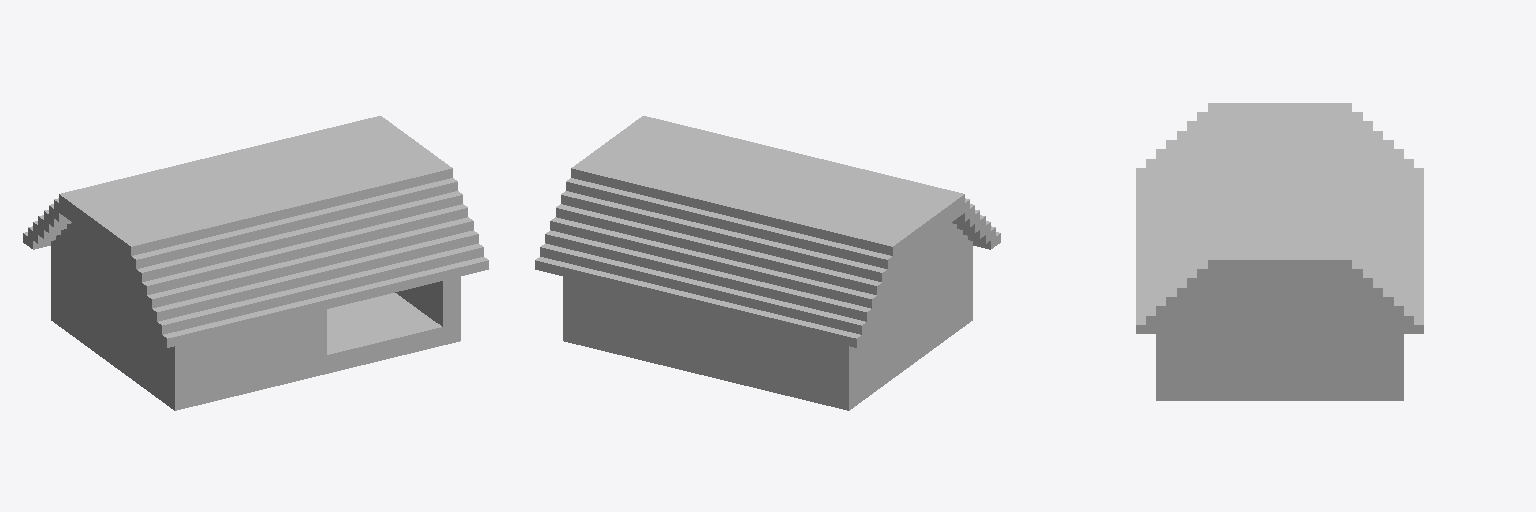
The model's file is House.obj.
3 renders of one model, left to right at view 1: azimuth 30°, elevation 25°; view 2: azimuth 150°, elevation 25°; view 3: azimuth 270°, elevation 25°, orthographic.
Size of the model in its own units: 36 by 16 by 28.